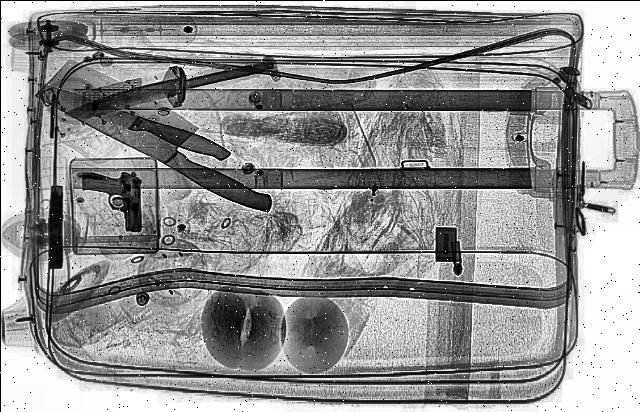Gun: (78, 170, 140, 232), (46, 185, 62, 269)
Knife: (15, 58, 312, 217), (25, 82, 236, 162), (58, 55, 272, 121)
